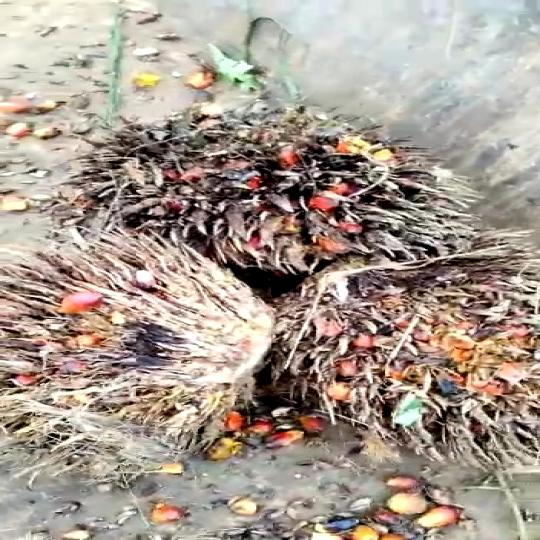terlalu masak: (0, 231, 288, 452), (90, 110, 442, 284), (272, 264, 540, 442)
